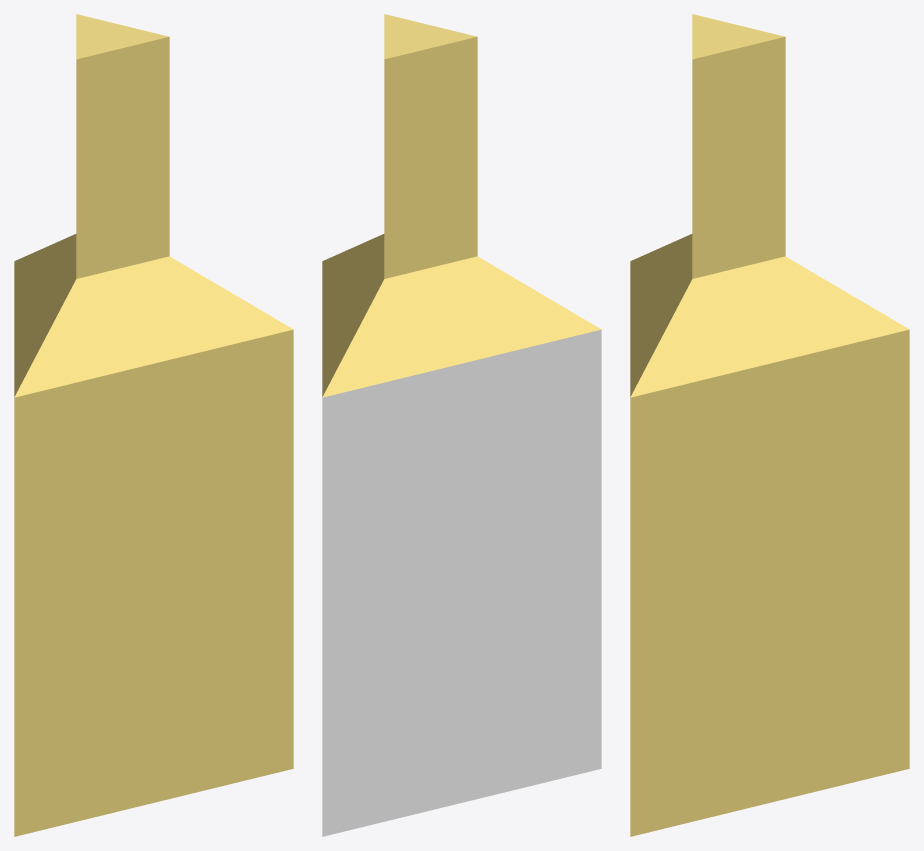
The model's file is bottle.gltf.
The picture shows the model from 3 angles, left to right: view 1: azimuth 30°, elevation 25°; view 2: azimuth 150°, elevation 25°; view 3: azimuth 270°, elevation 25°; orthographic projection.
Parts seen in each view (by area): view 1: bottle; view 2: bottle; view 3: bottle.
Boxes of the visible parts, x1,y1,x2,y2 form: bottle: [14, 14, 293, 836]; bottle: [322, 14, 601, 836]; bottle: [630, 14, 909, 836].
Size of the model in its own units: 0.2078 by 0.52 by 0.18.
